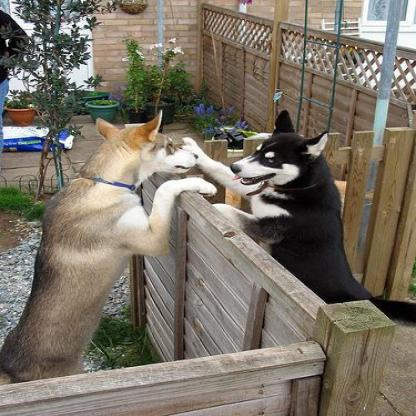Siberian_husky: (174, 107, 413, 360), (0, 107, 215, 380)
